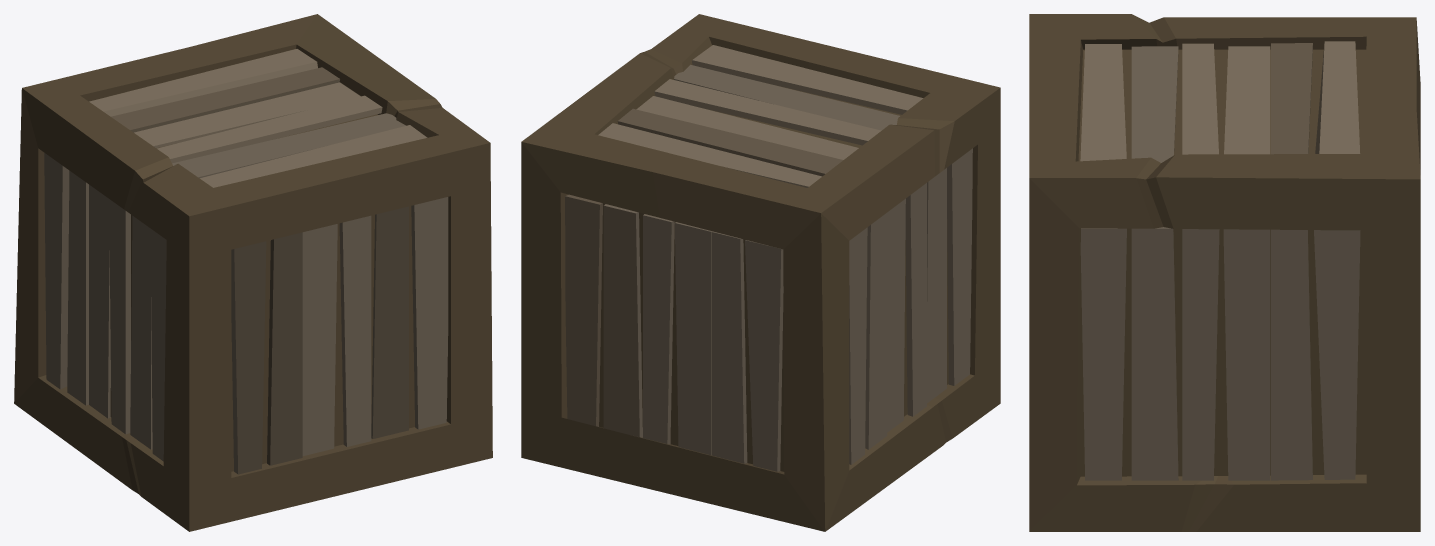
The picture shows the model from 3 angles, left to right: view 1: azimuth 30°, elevation 25°; view 2: azimuth 150°, elevation 25°; view 3: azimuth 270°, elevation 25°; orthographic projection. The views are drawn at different scales.
Parts seen in each view (by area): view 1: basic_cube.001, deski.002, deski, deski.001; view 2: basic_cube.001, deski.002, deski, deski.001; view 3: basic_cube.001, deski, deski.001.
Boxes of the visible parts, x1,y1,x2,y2 form: basic_cube.001: [14, 14, 492, 531]; deski.002: [231, 197, 448, 474]; deski: [44, 153, 166, 461]; deski.001: [89, 49, 427, 187]; basic_cube.001: [521, 14, 1000, 531]; deski.002: [565, 194, 783, 471]; deski: [849, 148, 972, 464]; deski.001: [598, 45, 923, 187]; basic_cube.001: [1029, 14, 1420, 531]; deski: [1080, 227, 1360, 480]; deski.001: [1080, 41, 1360, 162].
Size of the model in its own units: 2 by 2.01 by 2.
Materials: 1 (1 with a texture image).
